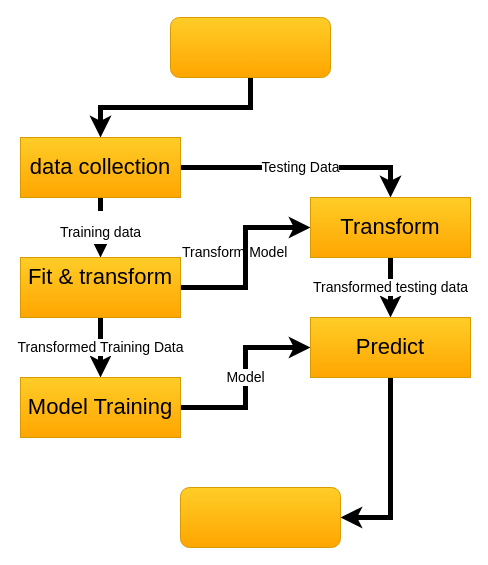
This 488x565 diagram has some shape labels left out. Here are the shapes that lost their labels. From the top down, the centre of each, then its label:
(x=250, y=47): Start
(x=260, y=517): End
